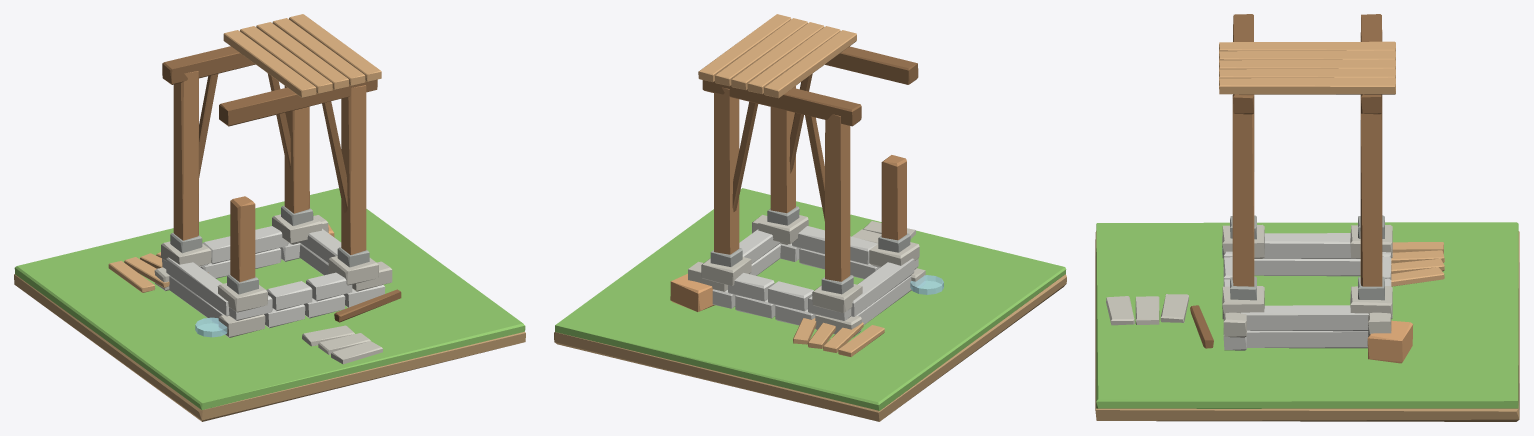
Rendered from tower_l03_damaged_LOD1.glb.
3 renders of one model, left to right at view 1: azimuth 30°, elevation 25°; view 2: azimuth 150°, elevation 25°; view 3: azimuth 270°, elevation 25°, orthographic. The views are drawn at different scales.
Visible parts, largest first — view 1: tower_l03_grass_tile_tower_l03_damaged_LOD1_tmp, tower_l03_earth_tile_tower_l03_damaged_LOD1_tmp, post_-0.61_0.54_tower_l03_damaged_LOD1_tmp, post_0.61_-0.54_tower_l03_damaged_LOD1_tmp, deck_bearer_-0.54_tower_l03_damaged_LOD1_tmp, post_0.61_0.54_tower_l03_damaged_LOD1_tmp, post_-0.61_-0.54_tower_l03_damaged_LOD1_tmp, deck_bearer_0.54_tower_l03_damaged_LOD1_tmp, deck_board_4_tower_l03_damaged_LOD1_tmp, stone_return_1_-0.72_tower_l03_damaged_LOD1_tmp, deck_board_5_tower_l03_damaged_LOD1_tmp, deck_board_8_tower_l03_damaged_LOD1_tmp (+27 smaller); view 2: tower_l03_grass_tile_tower_l03_damaged_LOD1_tmp, tower_l03_earth_tile_tower_l03_damaged_LOD1_tmp, post_-0.61_0.54_tower_l03_damaged_LOD1_tmp, post_0.61_0.54_tower_l03_damaged_LOD1_tmp, deck_bearer_0.54_tower_l03_damaged_LOD1_tmp, post_0.61_-0.54_tower_l03_damaged_LOD1_tmp, post_-0.61_-0.54_tower_l03_damaged_LOD1_tmp, deck_bearer_-0.54_tower_l03_damaged_LOD1_tmp, deck_board_4_tower_l03_damaged_LOD1_tmp, stone_return_1_-0.72_tower_l03_damaged_LOD1_tmp, deck_board_5_tower_l03_damaged_LOD1_tmp, deck_board_8_tower_l03_damaged_LOD1_tmp (+22 smaller); view 3: tower_l03_grass_tile_tower_l03_damaged_LOD1_tmp, tower_l03_earth_tile_tower_l03_damaged_LOD1_tmp, post_0.61_0.54_tower_l03_damaged_LOD1_tmp, post_0.61_-0.54_tower_l03_damaged_LOD1_tmp, deck_board_8_tower_l03_damaged_LOD1_tmp, stone_return_1_0.72_tower_l03_damaged_LOD1_tmp, stone_return_1_-0.72_tower_l03_damaged_LOD1_tmp, stone_return_0_0.72_tower_l03_damaged_LOD1_tmp, stone_return_0_-0.72_tower_l03_damaged_LOD1_tmp, deck_board_4_tower_l03_damaged_LOD1_tmp, deck_board_5_tower_l03_damaged_LOD1_tmp, deck_board_6_tower_l03_damaged_LOD1_tmp (+20 smaller).
Boxes of the visible parts, left/top/right/bottom form: tower_l03_grass_tile_tower_l03_damaged_LOD1_tmp: left=14, top=188, right=525, bottom=409; tower_l03_earth_tile_tower_l03_damaged_LOD1_tmp: left=14, top=274, right=525, bottom=421; post_-0.61_0.54_tower_l03_damaged_LOD1_tmp: left=173, top=71, right=198, bottom=240; post_0.61_-0.54_tower_l03_damaged_LOD1_tmp: left=341, top=85, right=366, bottom=254; deck_bearer_-0.54_tower_l03_damaged_LOD1_tmp: left=219, top=79, right=377, bottom=126; post_0.61_0.54_tower_l03_damaged_LOD1_tmp: left=284, top=86, right=309, bottom=213; post_-0.61_-0.54_tower_l03_damaged_LOD1_tmp: left=230, top=196, right=255, bottom=282; deck_bearer_0.54_tower_l03_damaged_LOD1_tmp: left=162, top=46, right=255, bottom=84; deck_board_4_tower_l03_damaged_LOD1_tmp: left=223, top=30, right=316, bottom=98; stone_return_1_-0.72_tower_l03_damaged_LOD1_tmp: left=166, top=257, right=229, bottom=316; deck_board_5_tower_l03_damaged_LOD1_tmp: left=240, top=26, right=332, bottom=94; deck_board_8_tower_l03_damaged_LOD1_tmp: left=289, top=14, right=381, bottom=82; tower_l03_grass_tile_tower_l03_damaged_LOD1_tmp: left=555, top=188, right=1066, bottom=411; tower_l03_earth_tile_tower_l03_damaged_LOD1_tmp: left=554, top=274, right=1066, bottom=421; post_-0.61_0.54_tower_l03_damaged_LOD1_tmp: left=825, top=114, right=850, bottom=281; post_0.61_0.54_tower_l03_damaged_LOD1_tmp: left=714, top=87, right=739, bottom=254; deck_bearer_0.54_tower_l03_damaged_LOD1_tmp: left=702, top=80, right=861, bottom=126; post_0.61_-0.54_tower_l03_damaged_LOD1_tmp: left=770, top=86, right=795, bottom=213; post_-0.61_-0.54_tower_l03_damaged_LOD1_tmp: left=881, top=155, right=906, bottom=240; deck_bearer_-0.54_tower_l03_damaged_LOD1_tmp: left=825, top=46, right=918, bottom=84; deck_board_4_tower_l03_damaged_LOD1_tmp: left=764, top=30, right=856, bottom=98; stone_return_1_-0.72_tower_l03_damaged_LOD1_tmp: left=851, top=258, right=914, bottom=316; deck_board_5_tower_l03_damaged_LOD1_tmp: left=747, top=26, right=840, bottom=94; deck_board_8_tower_l03_damaged_LOD1_tmp: left=698, top=14, right=791, bottom=82; tower_l03_grass_tile_tower_l03_damaged_LOD1_tmp: left=1096, top=222, right=1518, bottom=408; tower_l03_earth_tile_tower_l03_damaged_LOD1_tmp: left=1095, top=231, right=1519, bottom=421; post_0.61_0.54_tower_l03_damaged_LOD1_tmp: left=1360, top=95, right=1382, bottom=286; post_0.61_-0.54_tower_l03_damaged_LOD1_tmp: left=1232, top=95, right=1254, bottom=286; deck_board_8_tower_l03_damaged_LOD1_tmp: left=1219, top=77, right=1395, bottom=94; stone_return_1_0.72_tower_l03_damaged_LOD1_tmp: left=1240, top=305, right=1368, bottom=331; stone_return_1_-0.72_tower_l03_damaged_LOD1_tmp: left=1263, top=233, right=1360, bottom=258; stone_return_0_0.72_tower_l03_damaged_LOD1_tmp: left=1246, top=330, right=1368, bottom=348; stone_return_0_-0.72_tower_l03_damaged_LOD1_tmp: left=1254, top=258, right=1360, bottom=276; deck_board_4_tower_l03_damaged_LOD1_tmp: left=1219, top=41, right=1395, bottom=52; deck_board_5_tower_l03_damaged_LOD1_tmp: left=1219, top=50, right=1395, bottom=61; deck_board_6_tower_l03_damaged_LOD1_tmp: left=1219, top=59, right=1395, bottom=70.
Size of the model in its own units: 3.6 by 2.69 by 3.58.
